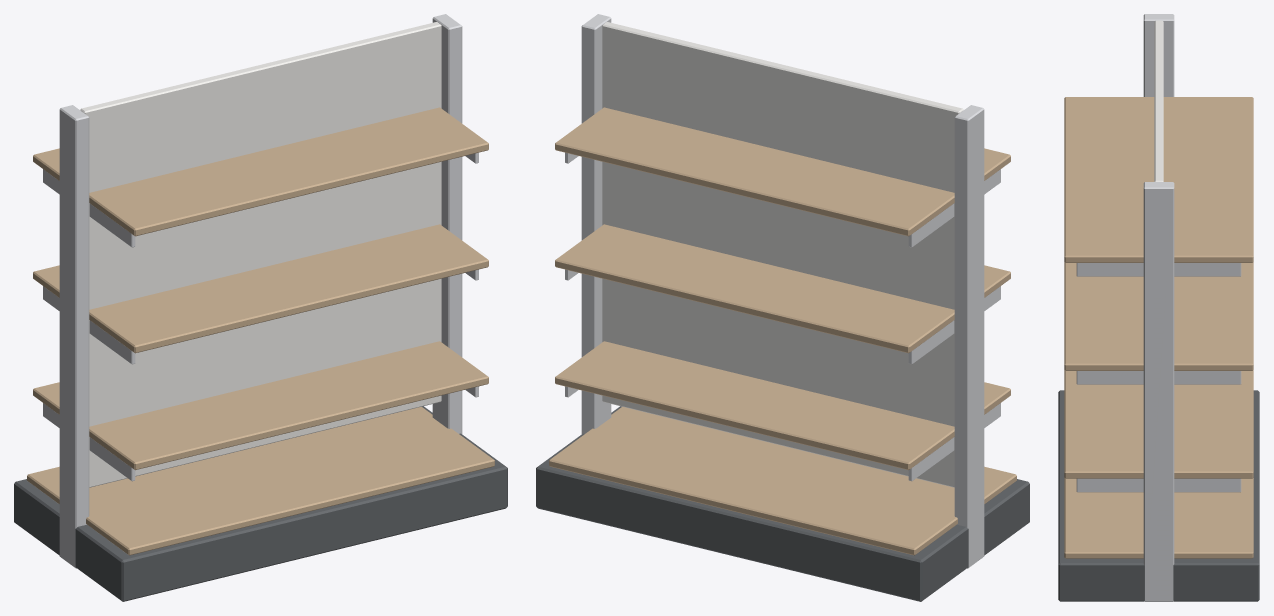
The picture shows the model from 3 angles, left to right: view 1: azimuth 30°, elevation 25°; view 2: azimuth 150°, elevation 25°; view 3: azimuth 270°, elevation 25°; orthographic projection. The views are drawn at different scales.
Visible parts, largest first — view 1: mid-floor-gondola; view 2: mid-floor-gondola; view 3: mid-floor-gondola.
Part boxes in pixels (box(x1,y1,x2,y2)): mid-floor-gondola: box(14, 14, 507, 601); mid-floor-gondola: box(536, 14, 1029, 601); mid-floor-gondola: box(1058, 14, 1259, 601).
Size of the model in its own units: 1.35 by 1.5 by 0.6599.
